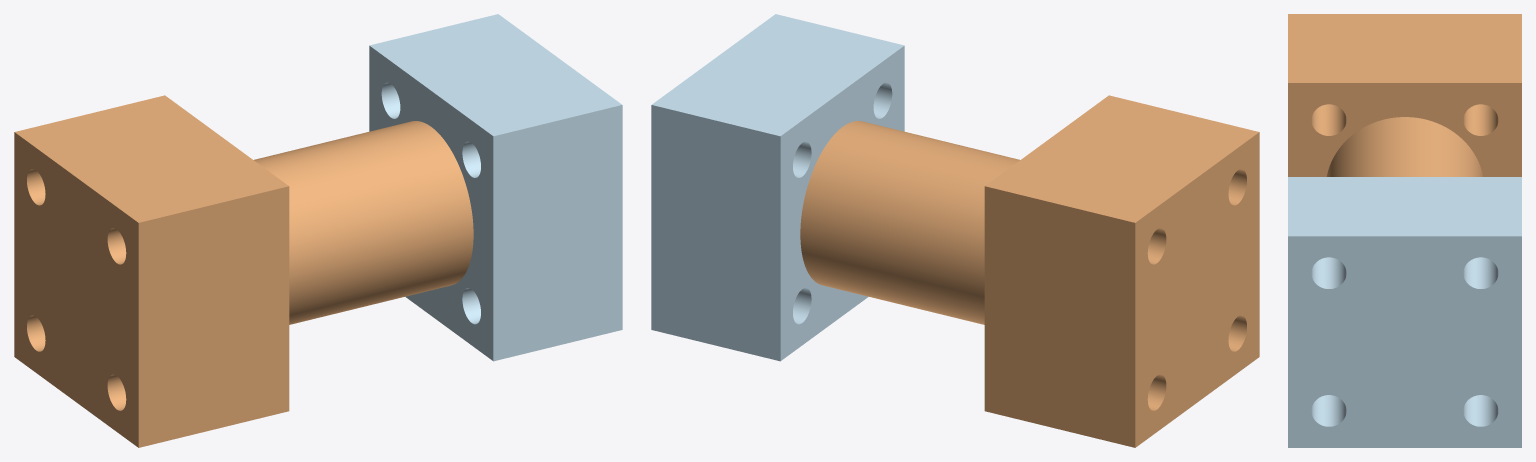
Rendered from serial_test_example_fn_std-solid-subtract2_output.gltf.
The picture shows the model from 3 angles, left to right: view 1: azimuth 30°, elevation 25°; view 2: azimuth 150°, elevation 25°; view 3: azimuth 270°, elevation 25°; orthographic projection. The views are drawn at different scales.
Bounding box in the file's own units: 0.1429 × 0.0635 × 0.0635.
